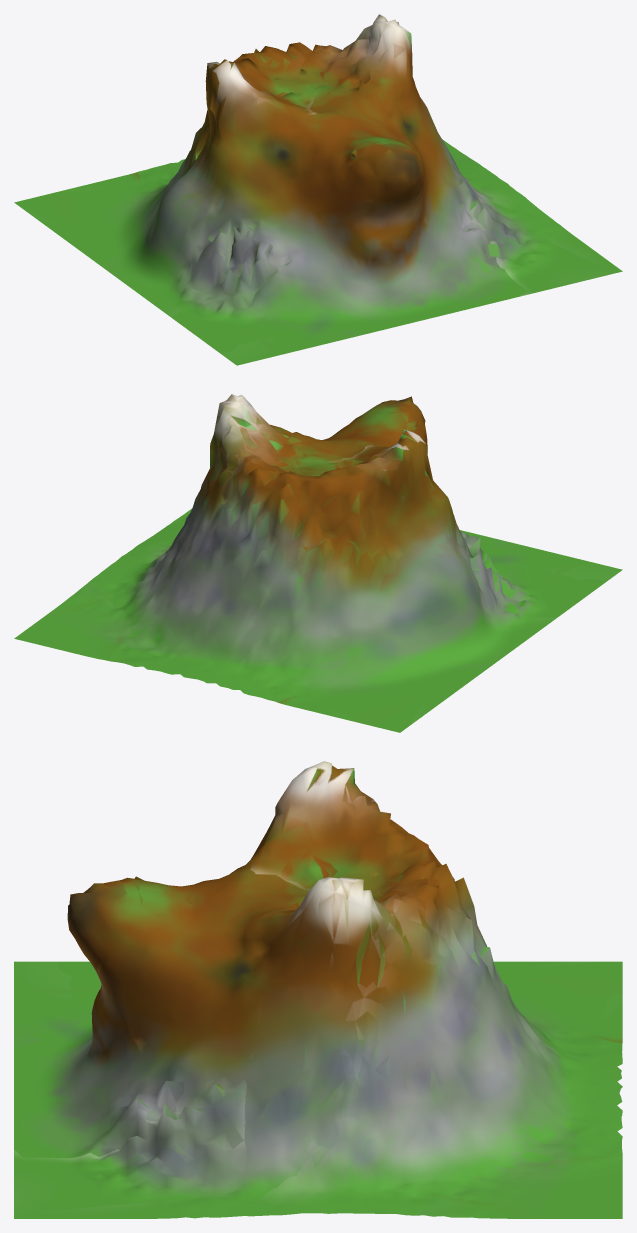
Rendered from mountain.glb.
3 views of the same model, one above another, from view 1: azimuth 30°, elevation 25°; view 2: azimuth 150°, elevation 25°; view 3: azimuth 270°, elevation 25° (orthographic). The views are drawn at different scales.
Visible parts, largest first — view 1: Plane; view 2: Plane; view 3: Plane.
Boxes of the visible parts, left/top/right/bottom form: Plane: left=14, top=14, right=622, bottom=365; Plane: left=14, top=394, right=622, bottom=732; Plane: left=14, top=761, right=622, bottom=1218.
Size of the model in its own units: 2 by 0.9774 by 2.
Materials: 1 (1 with a texture image).
